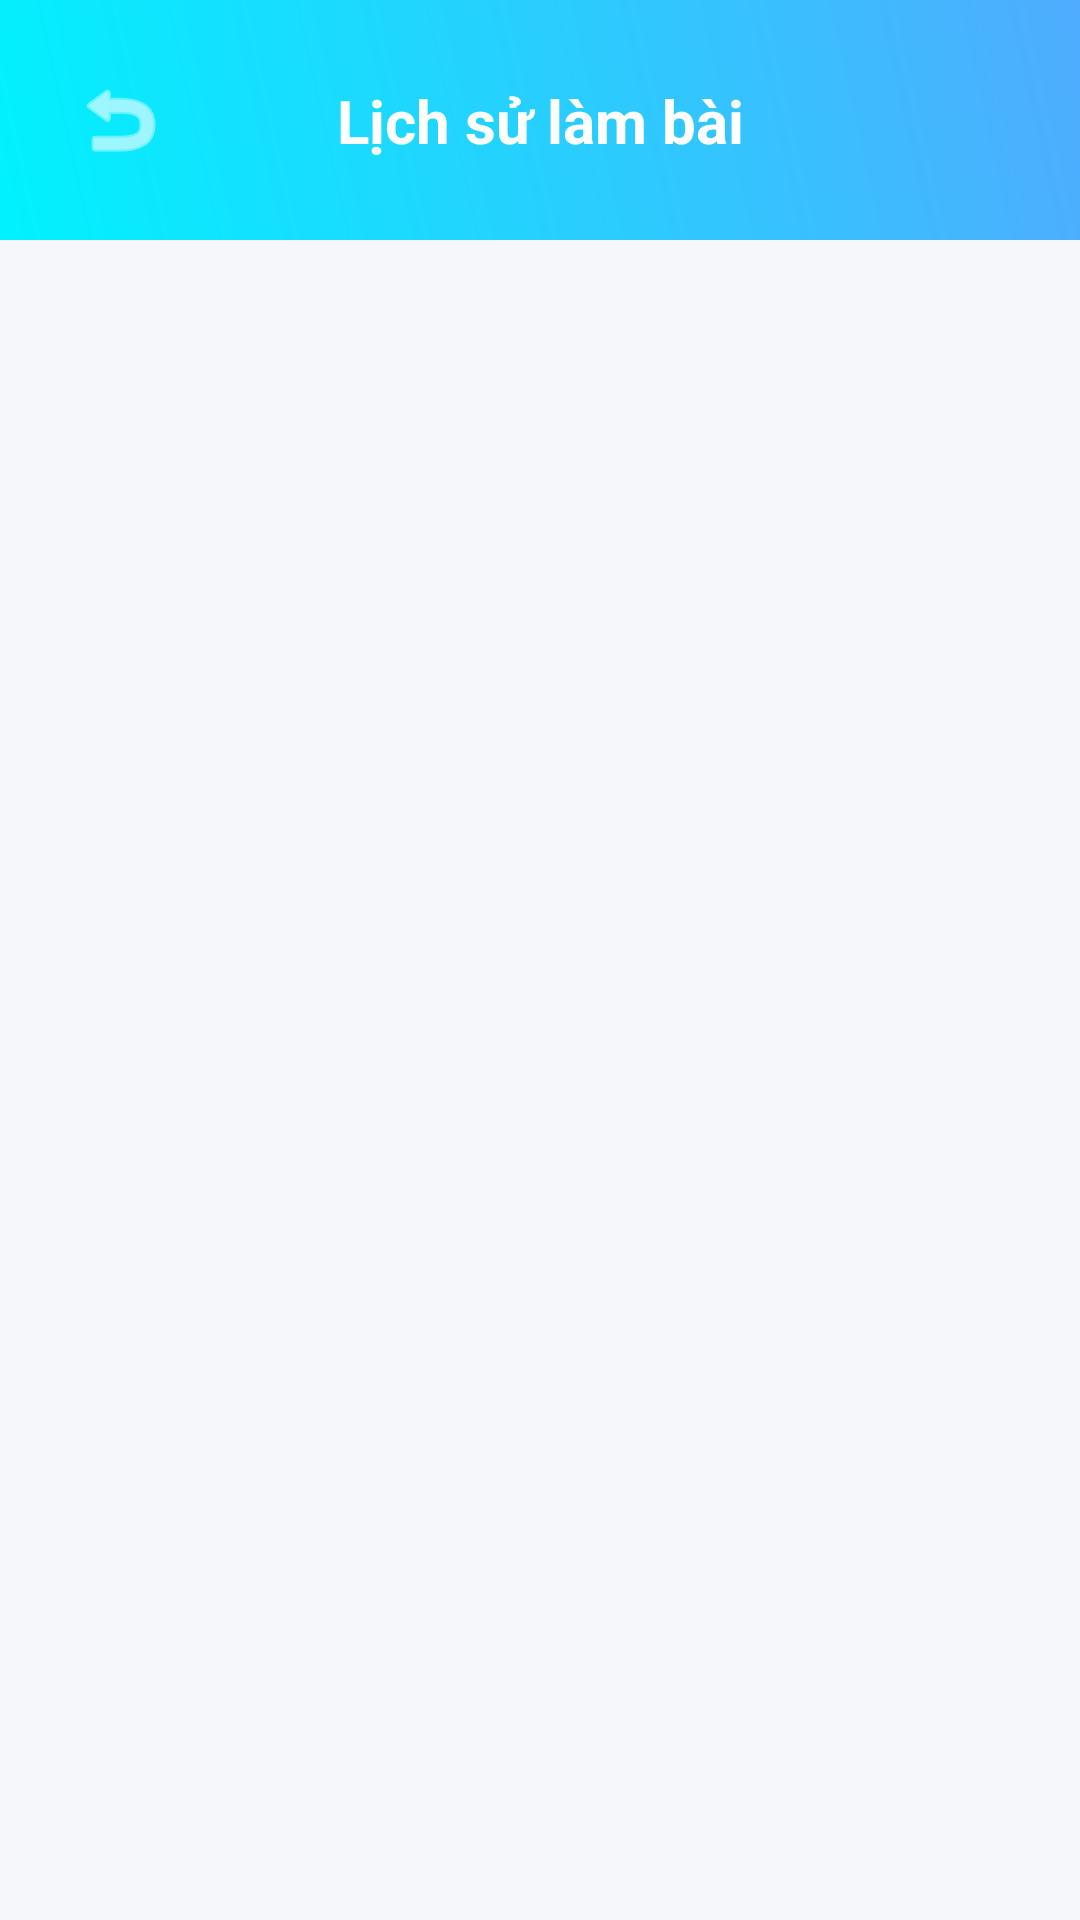

Icons on this 1080w x 1920h Android screen, each with the point to tap as point (x, y):
Quay lại: point (121, 120)
